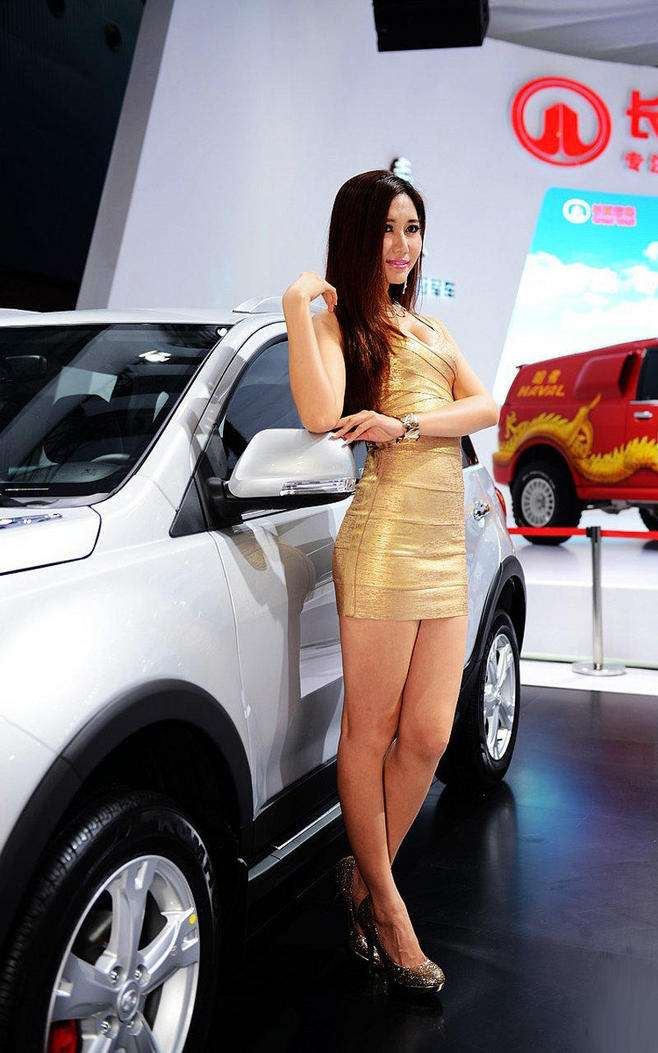person: (195, 168, 538, 957)
